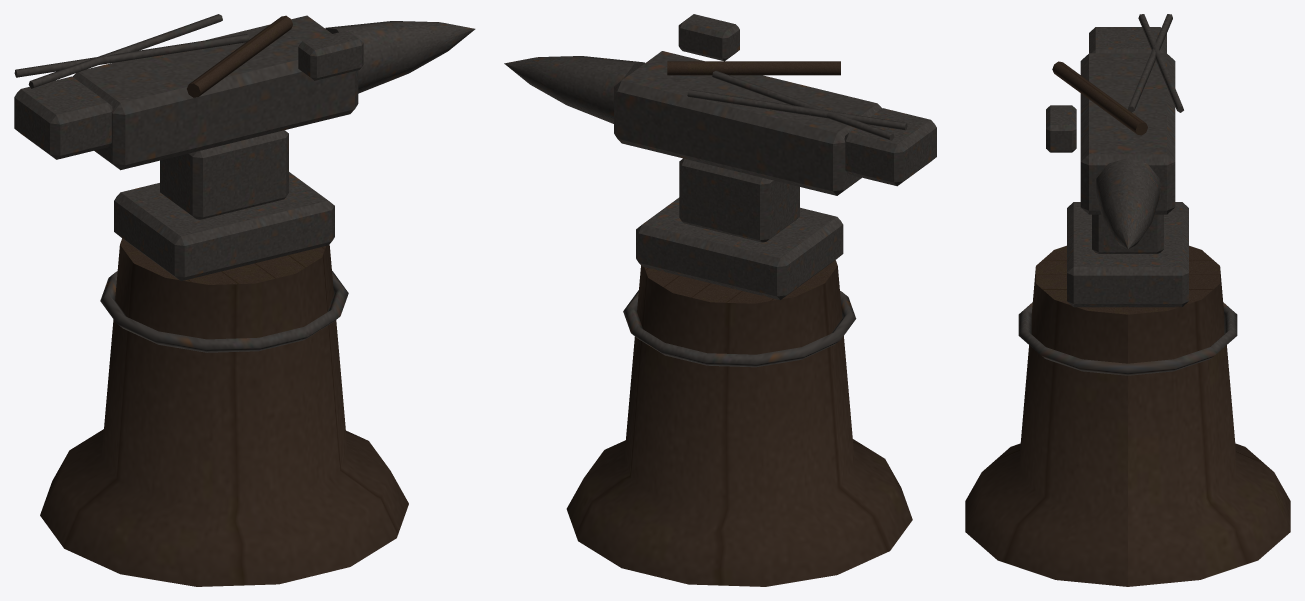
File: anvil.glb
The picture shows the model from 3 angles, left to right: view 1: azimuth 30°, elevation 25°; view 2: azimuth 150°, elevation 25°; view 3: azimuth 270°, elevation 25°; orthographic projection. The views are drawn at different scales.
Visible parts, largest first — view 1: anvil; view 2: anvil; view 3: anvil.
Part boxes in pixels (left/top/right/bottom): anvil: left=14, top=14, right=475, bottom=586; anvil: left=504, top=14, right=936, bottom=586; anvil: left=965, top=14, right=1290, bottom=586.
Bounding box in the file's own units: 0.83 × 0.8575 × 0.585.
1 material, 1 textured.
